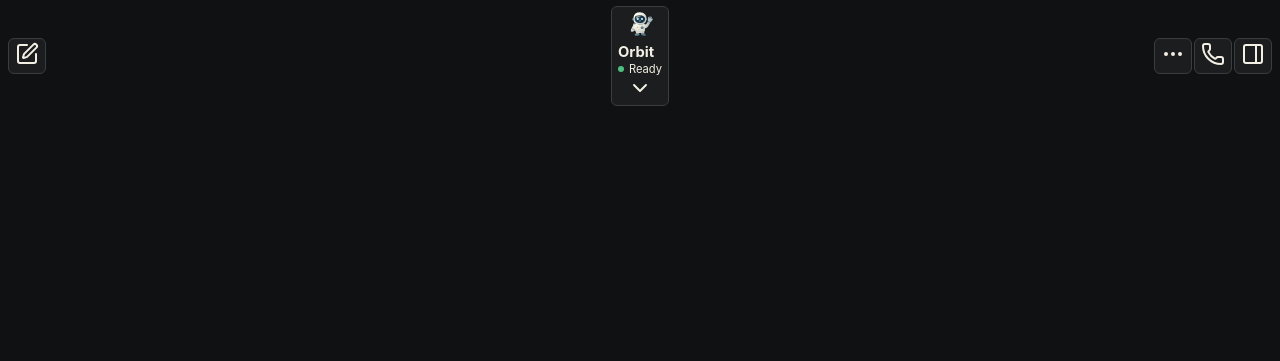
Scenario: truthful status and selector accessibility › offers all six choices with keyboard navigation, Escape dismissal and focus return
Click the button with aria-label "Choose Dot (Orbit)".
click(640, 56)  # box [611,6,669,106]
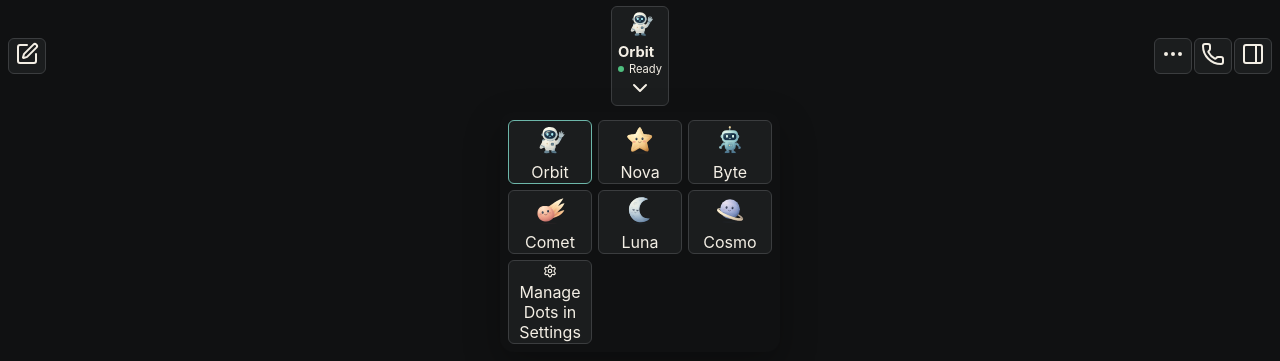
Result: the menu item "Manage Dots in Settings" is shown at [508,260,592,344]
Press ArrowRight in the menu item "Orbit", box [508,120,592,184]
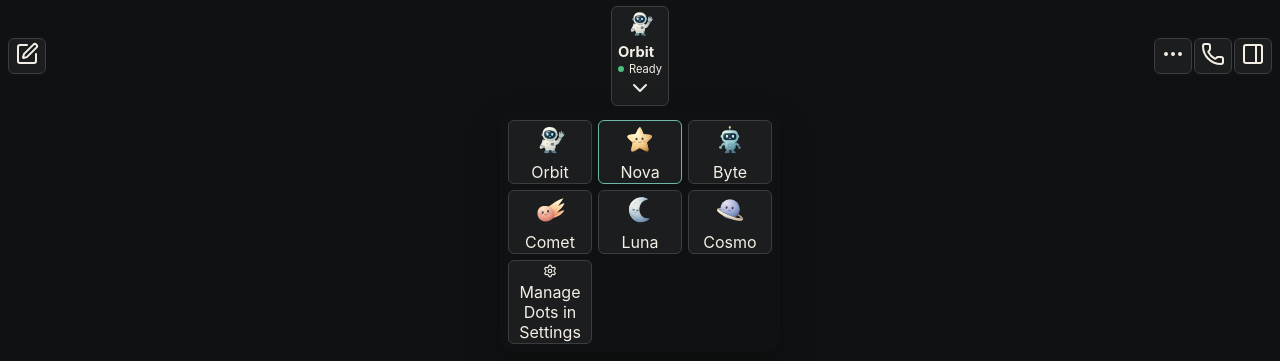
Press ArrowDown in the menu item "Nova", box [598,120,682,184]
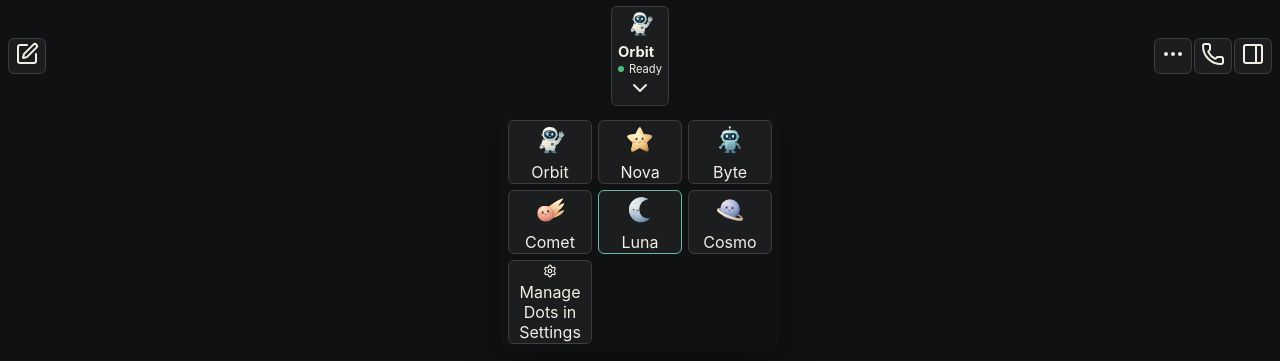
Press Escape in the menu item "Luna", box [598,190,682,254]
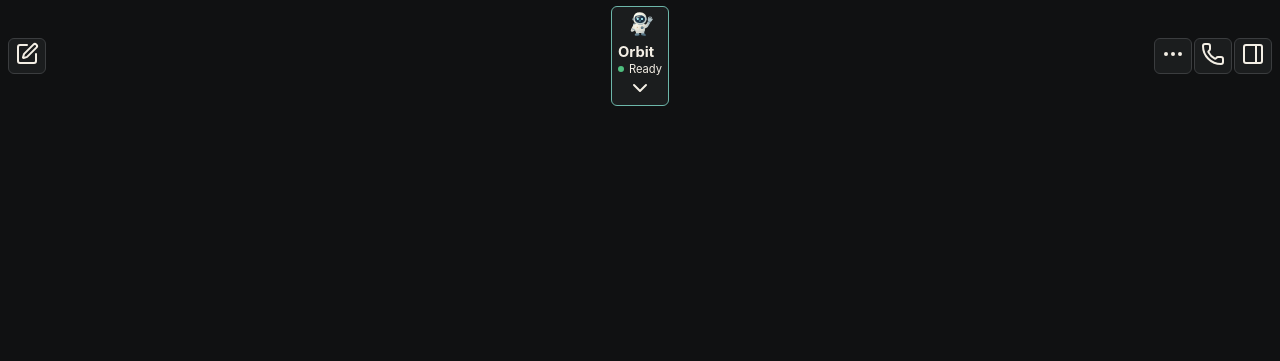
Result: the menu is gone
